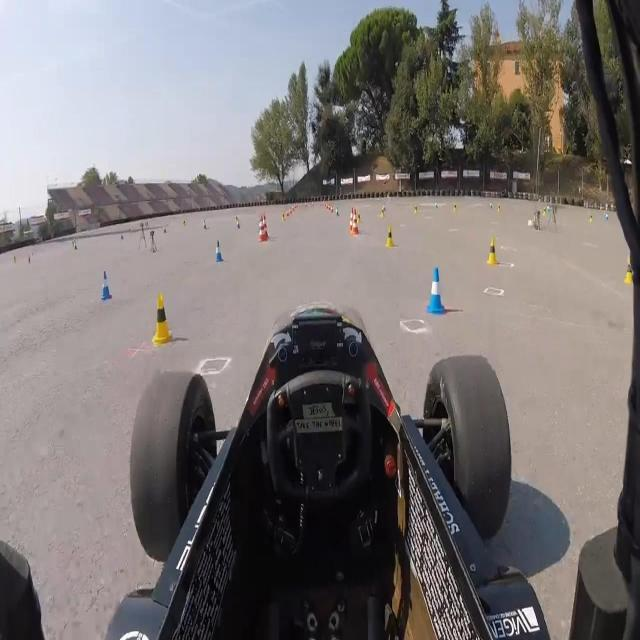blue_cone: (425, 263, 447, 315), (98, 267, 115, 303), (214, 239, 224, 264), (236, 218, 241, 230), (202, 219, 207, 230), (336, 205, 340, 218), (605, 211, 609, 222), (434, 200, 438, 211), (489, 200, 493, 211)
large_orange_cone: (258, 215, 266, 245), (262, 211, 270, 240), (351, 207, 359, 236), (348, 206, 354, 233)
orange_cone: (286, 208, 289, 216), (328, 204, 331, 211), (331, 206, 334, 213), (290, 206, 292, 213), (292, 205, 294, 212), (326, 203, 328, 209)
yellow_cone: (150, 294, 180, 348), (623, 247, 634, 286), (485, 234, 499, 264), (385, 225, 395, 249), (357, 209, 362, 224), (381, 206, 386, 219), (453, 202, 458, 212), (414, 202, 418, 214), (282, 211, 286, 221), (497, 203, 501, 213), (234, 214, 238, 223)
